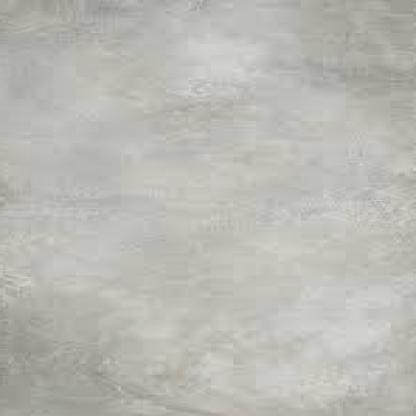Sedimentary_Chalk: (3, 0, 415, 415)
